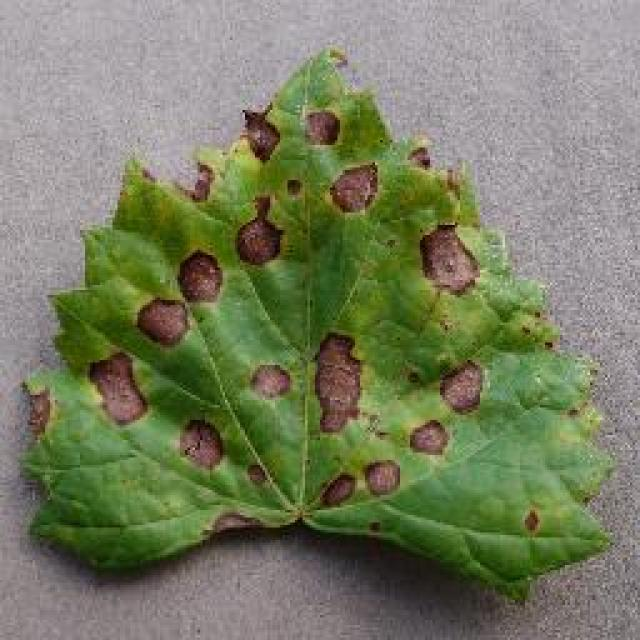Grape___Black_rot: (14, 41, 623, 613)
